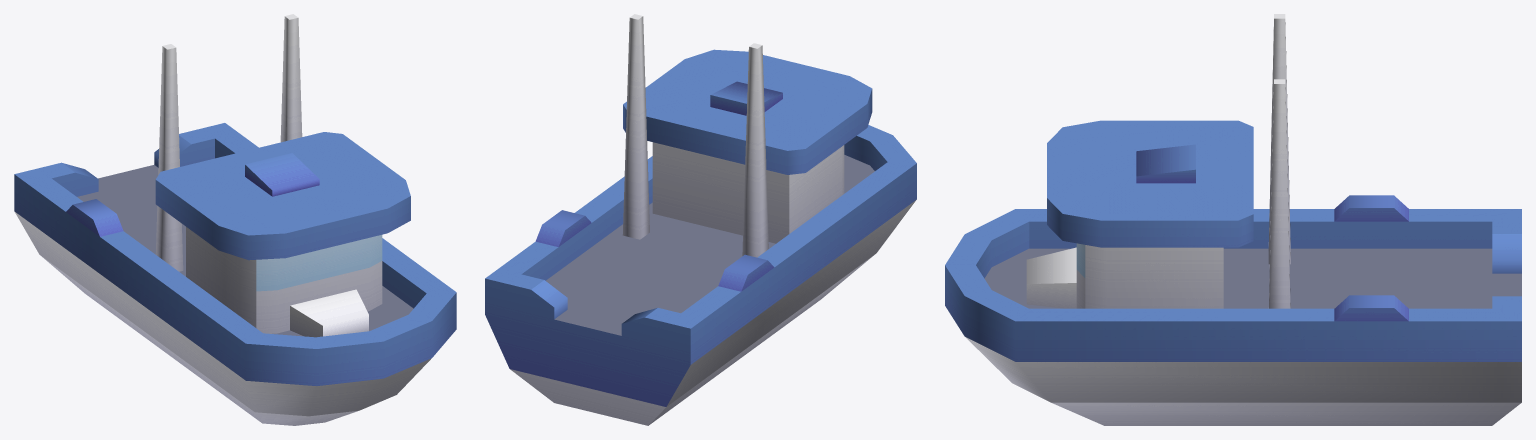
Rendered from boat-fishing-small.glb.
3 views of the same model, side by side, from view 1: azimuth 30°, elevation 25°; view 2: azimuth 150°, elevation 25°; view 3: azimuth 270°, elevation 25° (orthographic). The views are drawn at different scales.
Parts seen in each view (by area): view 1: boat-fishing-small; view 2: boat-fishing-small; view 3: boat-fishing-small.
Part boxes in pixels (x1=…): boat-fishing-small: x1=14, y1=14, x2=456, y2=425; boat-fishing-small: x1=485, y1=14, x2=916, y2=425; boat-fishing-small: x1=945, y1=14, x2=1521, y2=425.
Size of the model in its own units: 6.07 by 8.84 by 13.16.
Materials: 1 (1 with a texture image).
